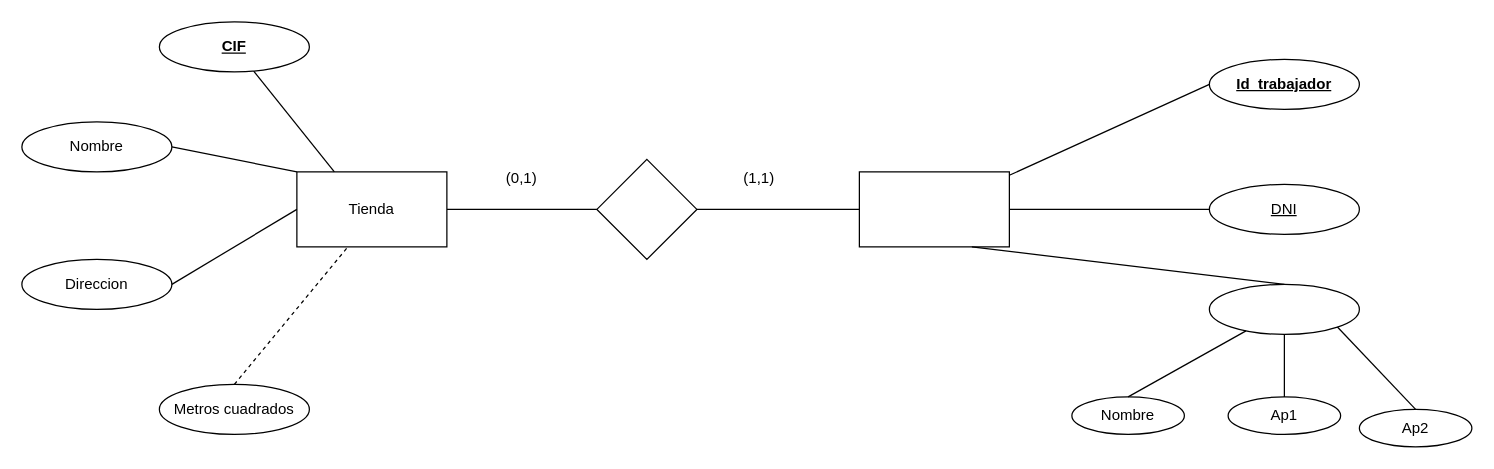
Some shapes in this 1494 by 469 pixel diagram are drawn without their labels. Each missing label, with the centre of its shape:
Administra: point (646, 208)
Nombre Completo: point (1283, 308)
Trabajador: point (933, 209)
